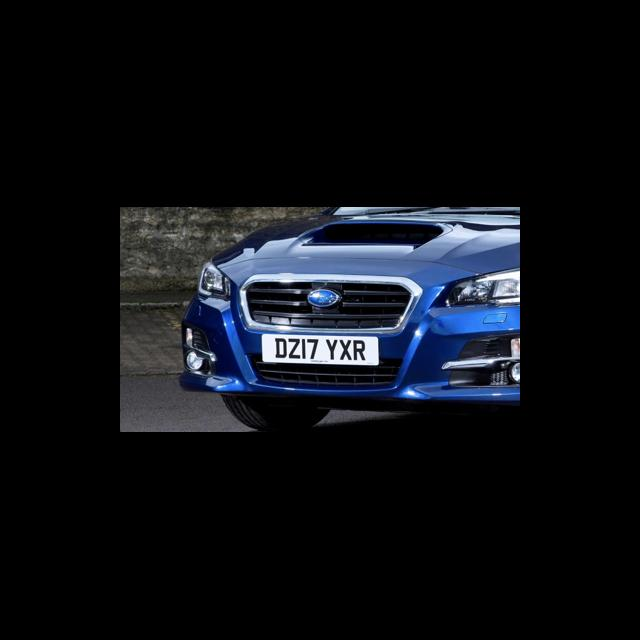Plate: (260, 332, 380, 367)
